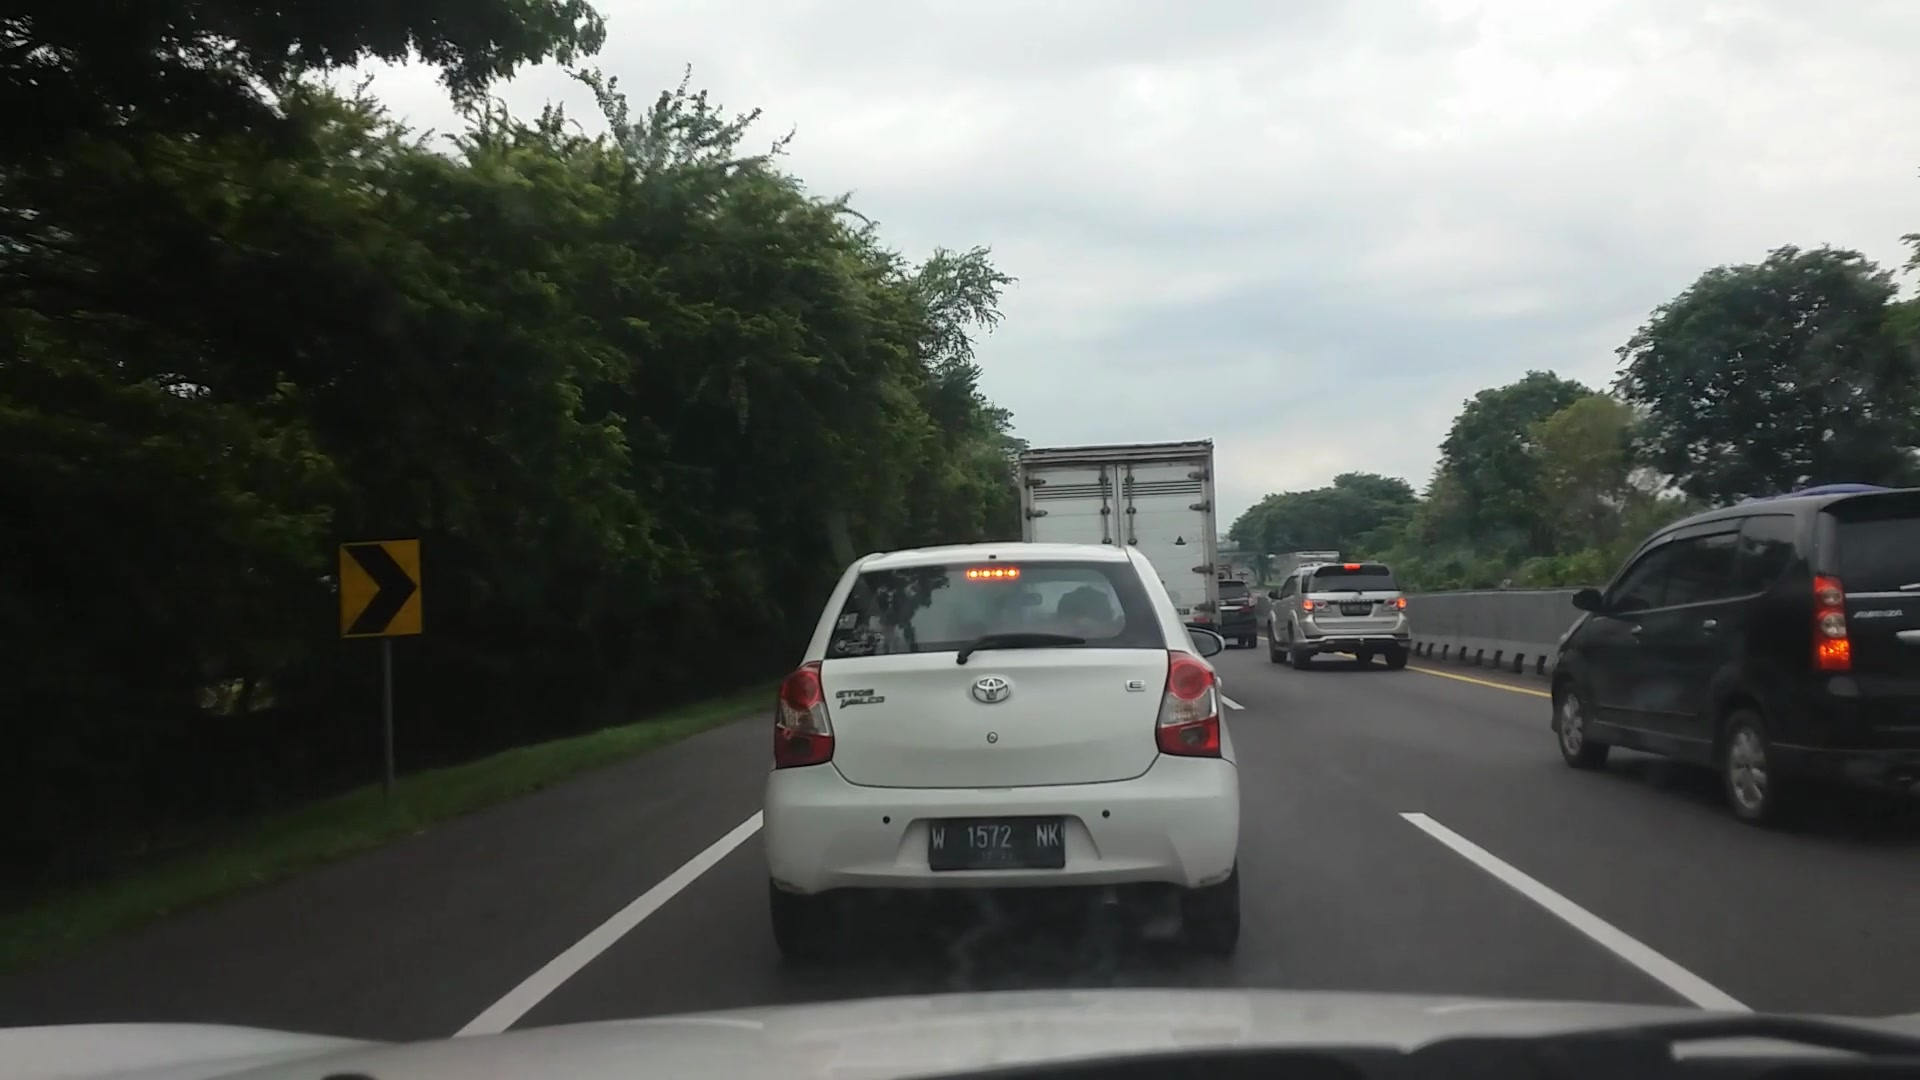plate_positive: (928, 816, 1065, 872)
